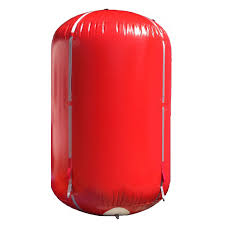buoy: (51, 9, 171, 215)
